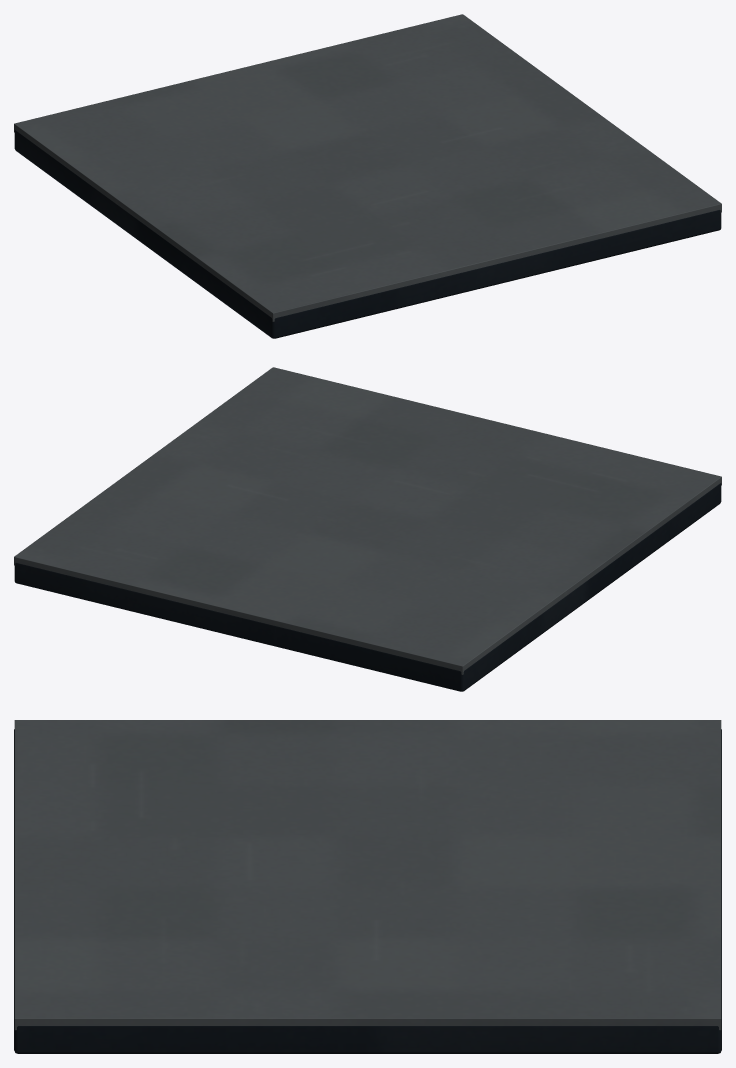
Rendered from Dock_Floor_2m.fbx.
3 renders of one model, top to bottom at view 1: azimuth 30°, elevation 25°; view 2: azimuth 150°, elevation 25°; view 3: azimuth 270°, elevation 25°, orthographic. The views are drawn at different scales.
Visible parts, largest first — view 1: Dock_Floor_2m.002; view 2: Dock_Floor_2m.002; view 3: Dock_Floor_2m.002.
Part boxes in pixels (bbox=[...]): Dock_Floor_2m.002: bbox=[14, 14, 721, 338]; Dock_Floor_2m.002: bbox=[14, 367, 721, 691]; Dock_Floor_2m.002: bbox=[14, 720, 721, 1053].
Bounding box in the file's own units: 200 × 11.5 × 200.
1 material, 1 textured.
